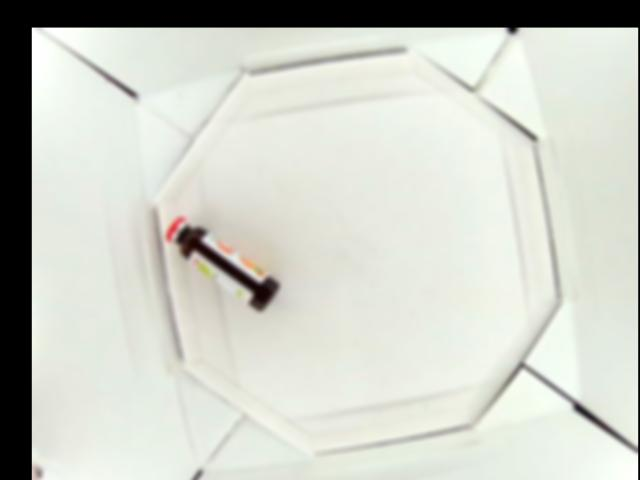Medicine: (165, 216, 280, 313)
